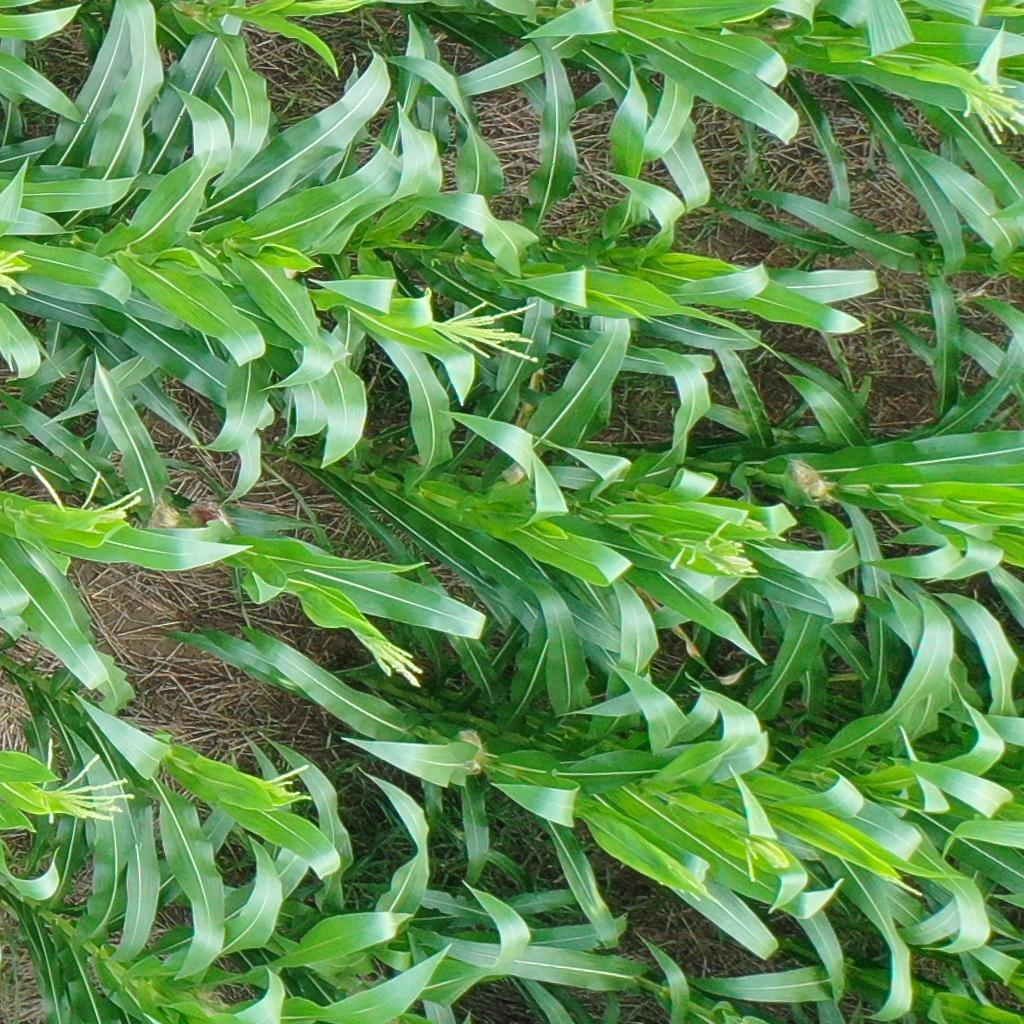Tassel: (32, 735, 138, 827), (424, 295, 548, 371), (29, 461, 144, 540), (953, 57, 1024, 146), (350, 623, 435, 692), (667, 515, 758, 578), (738, 833, 792, 885), (259, 757, 311, 806), (1, 246, 41, 300)
